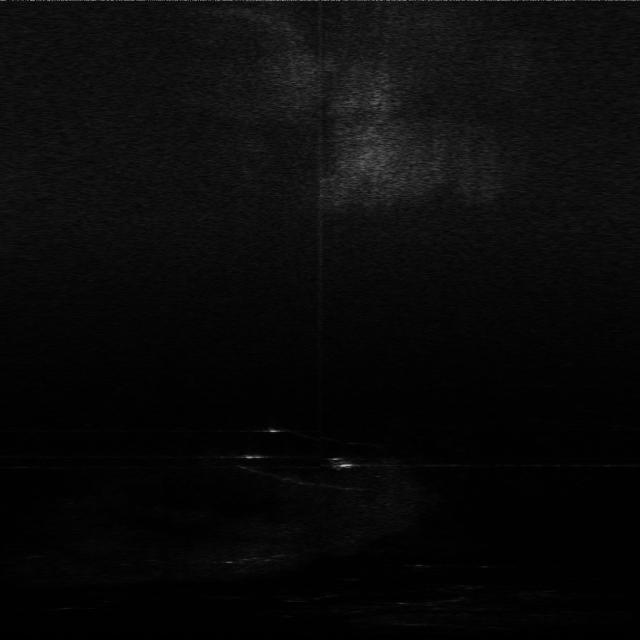rov: (330, 454, 364, 470)
